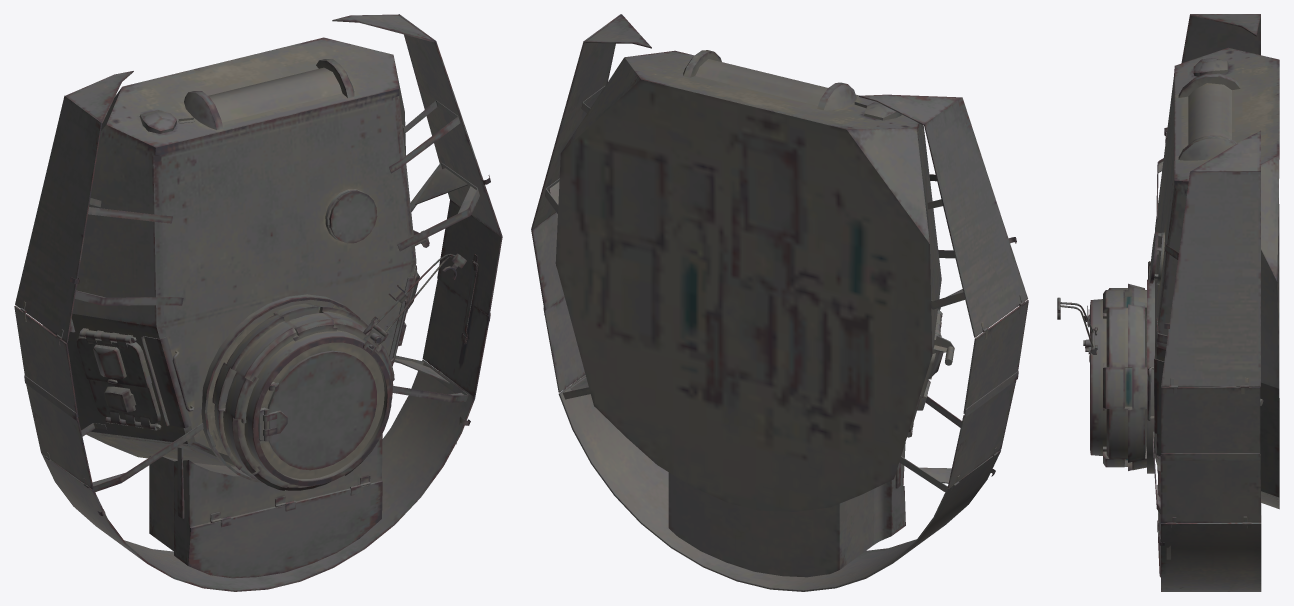
Rendered from Turret_02.glb.
3 renders of one model, left to right at view 1: azimuth 30°, elevation 25°; view 2: azimuth 150°, elevation 25°; view 3: azimuth 270°, elevation 25°, orthographic. The views are drawn at different scales.
Parts seen in each view (by area): view 1: set_0_group_0; view 2: set_0_group_0; view 3: set_0_group_0.
Part boxes in pixels (bbox=[...]): set_0_group_0: bbox=[14, 14, 502, 591]; set_0_group_0: bbox=[531, 14, 1028, 591]; set_0_group_0: bbox=[1057, 14, 1279, 591].
Size of the model in its own units: 2.48 by 2.71 by 1.12.
Materials: 1 (1 with a texture image).
